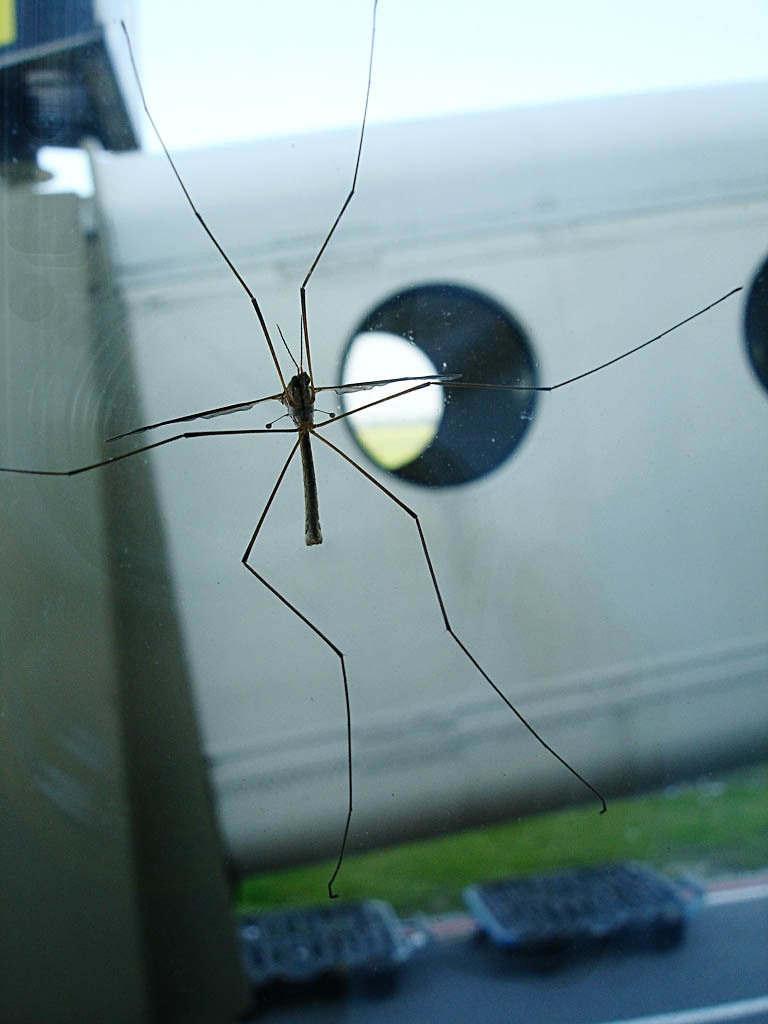insect: (0, 0, 743, 901)
